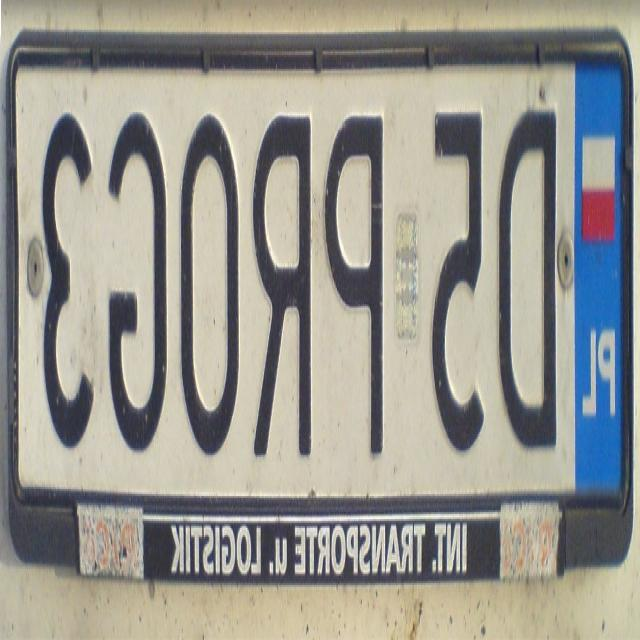pl_license_plate: (14, 46, 628, 503)
